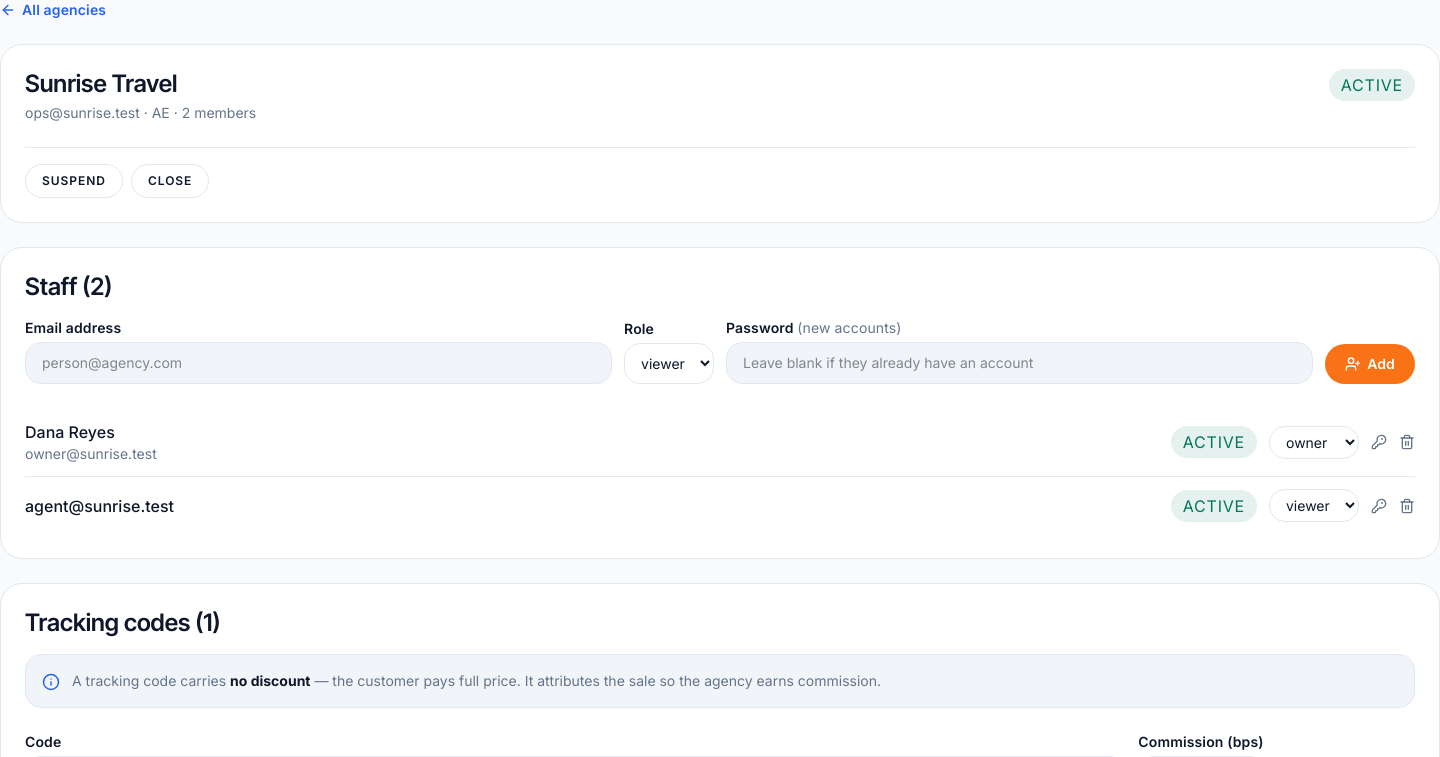
Test: staff › shows a field error the form has no input for
The width and height of the screenshot is (1440, 757).
Expected: the 1st heading "Sunrise Travel" is shown, [25,69,177,98]
Type "new@sunrise.test" into the field named "email address" at (319, 363), box [25,342,612,384]
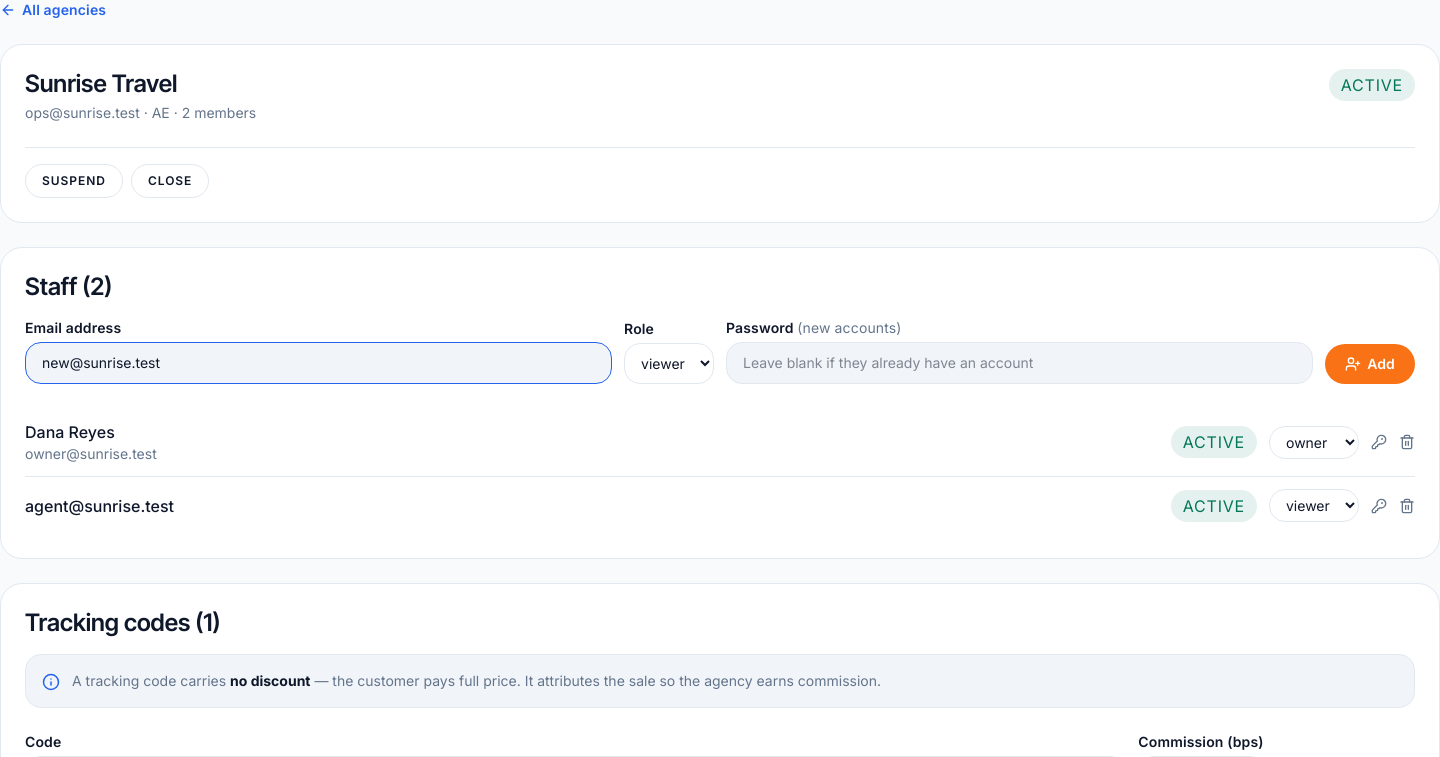
Type "password" into the field named "password" at (1020, 363), box [726,342,1313,384]
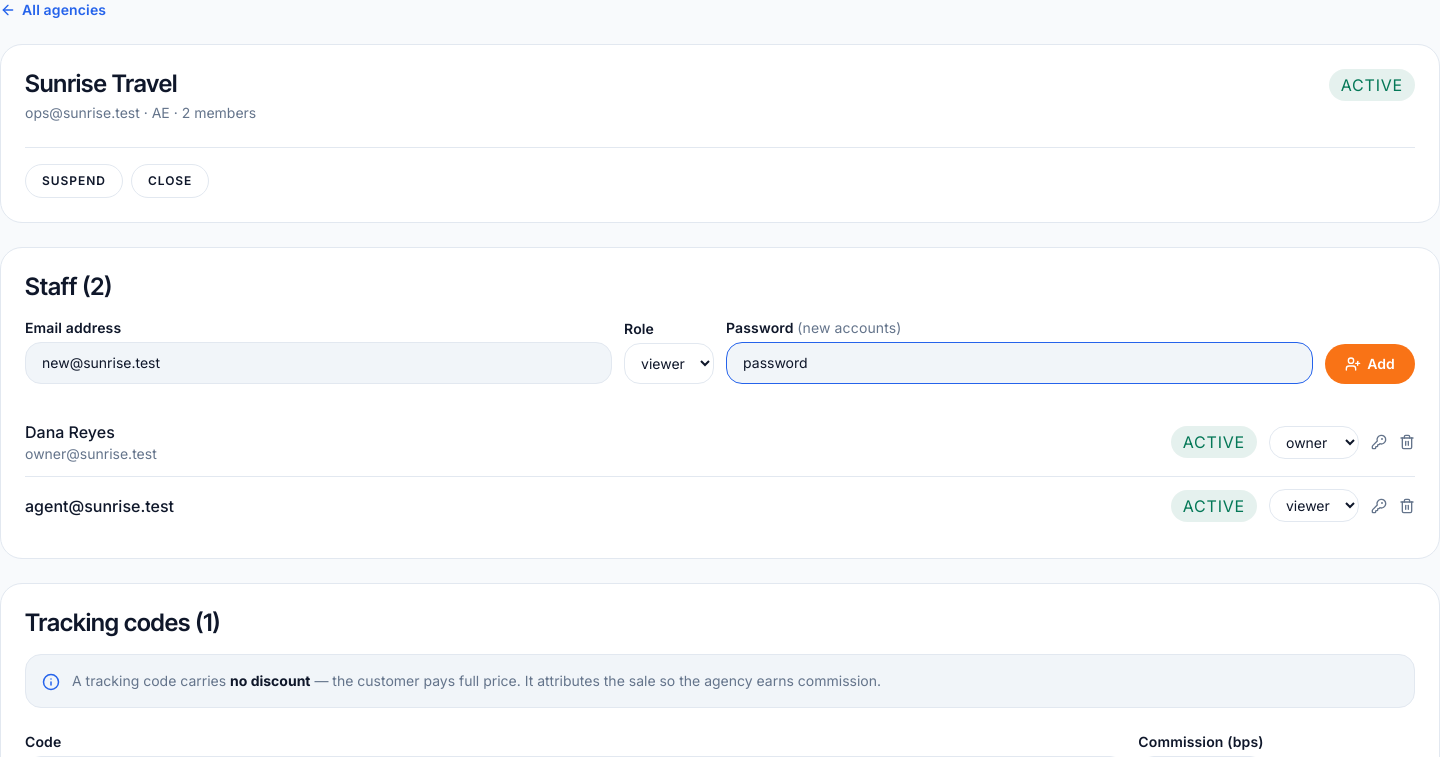
Click the 3rd button named "add" at (1370, 364), box [1325,344,1415,384]
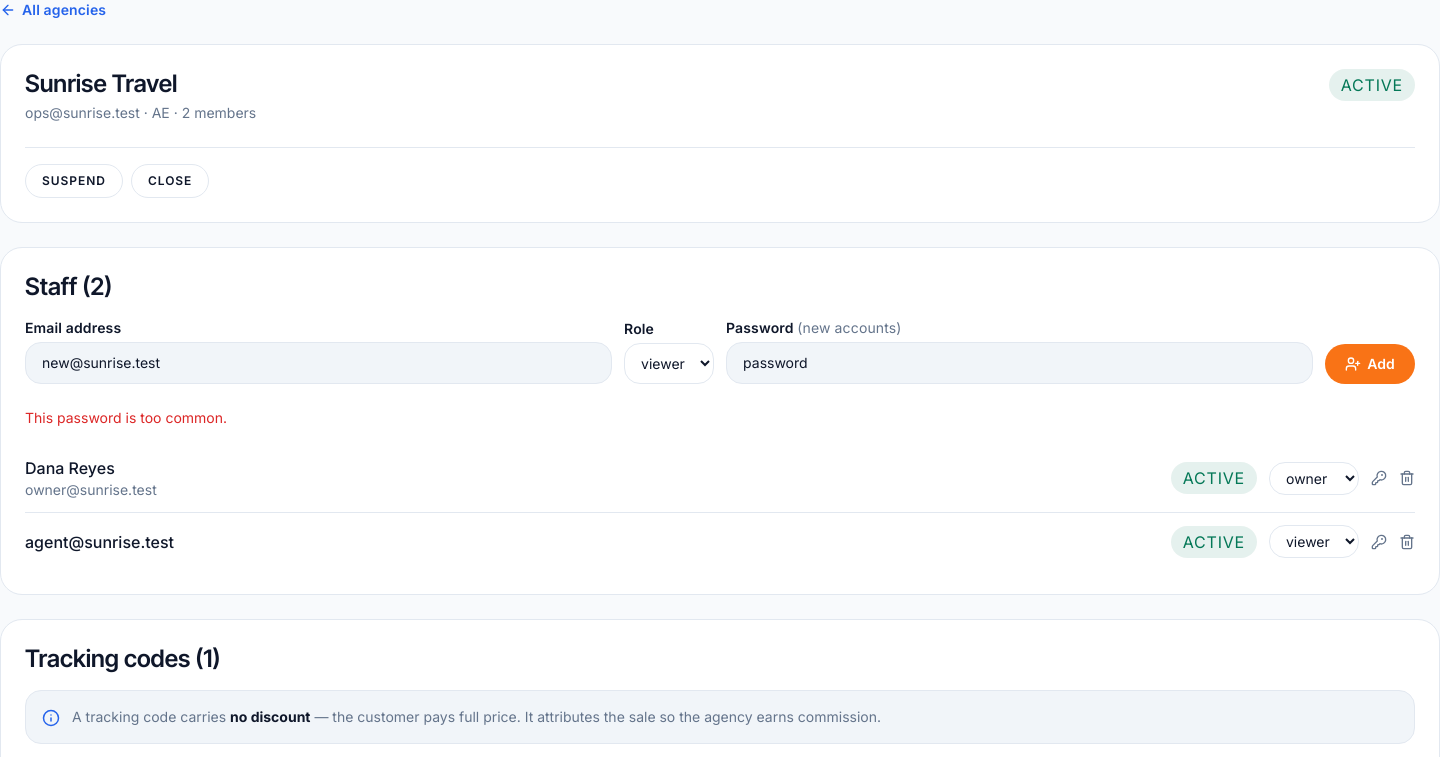
Expected: the text "too common" is shown, [25,409,227,426]
